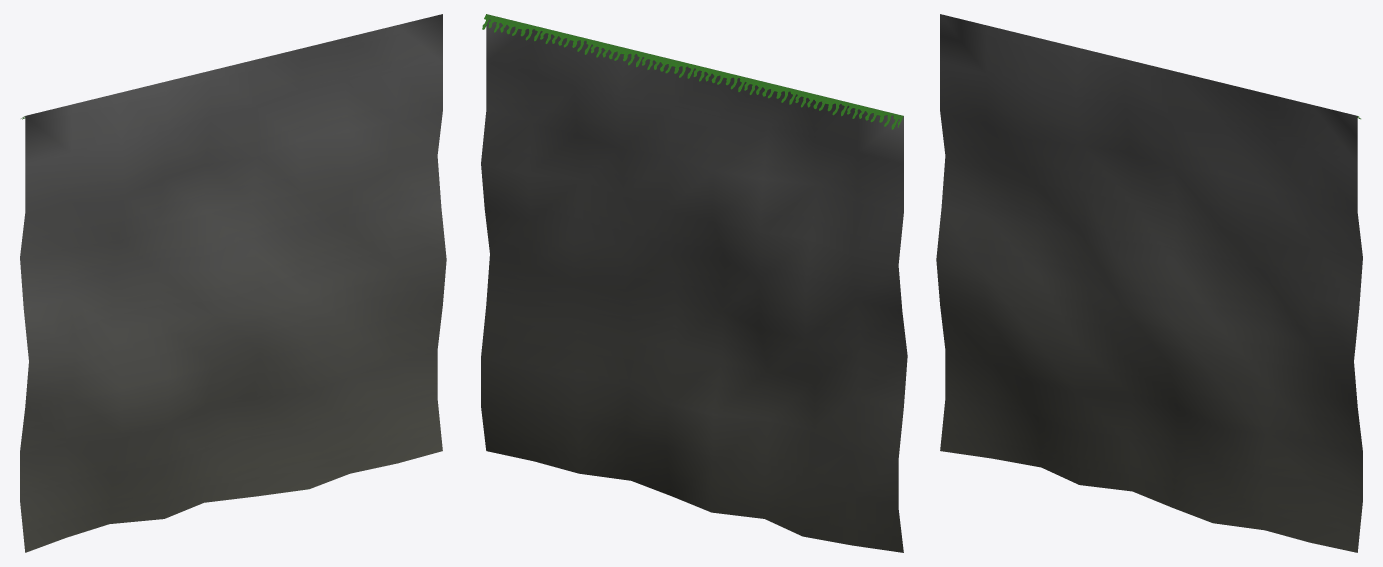
The model's file is RockWall.obj.
3 renders of one model, left to right at view 1: azimuth 30°, elevation 25°; view 2: azimuth 150°, elevation 25°; view 3: azimuth 330°, elevation 25°, orthographic.
Visible parts, largest first — view 1: Plane; view 2: Plane; view 3: Plane.
Part boxes in pixels (left/top/right/bottom): Plane: left=20, top=14, right=446, bottom=552; Plane: left=481, top=14, right=907, bottom=552; Plane: left=936, top=14, right=1362, bottom=552.
Size of the model in its own units: 16 by 16 by 1.2.
Materials: 1 (1 with a texture image).
